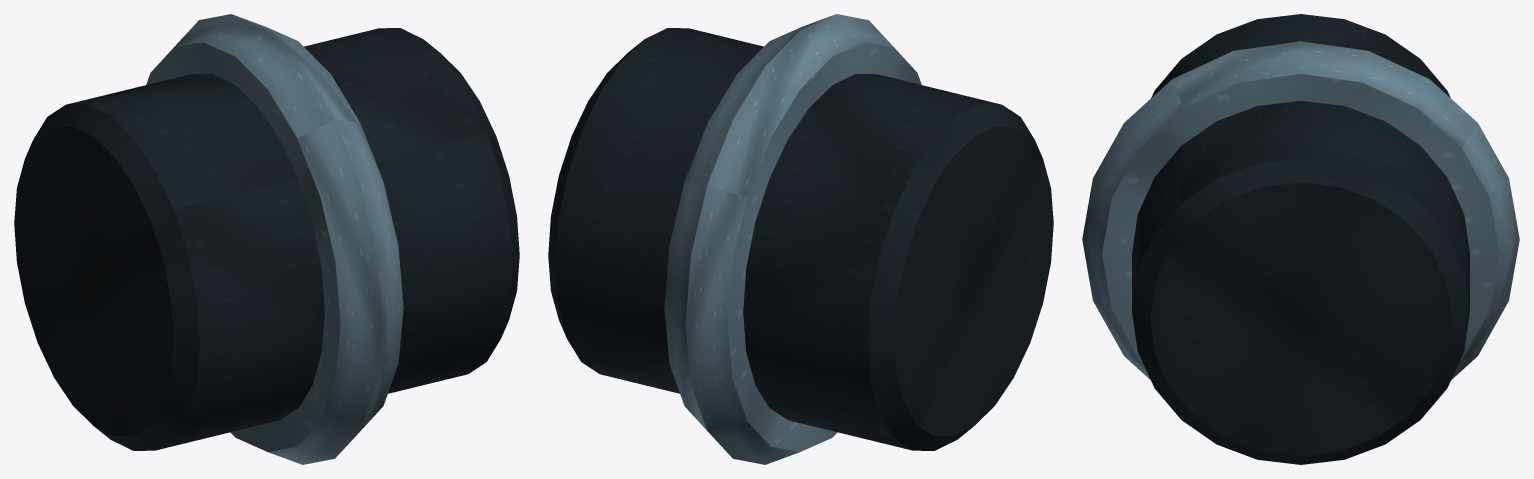
File: Repair_Joint_V2.fbx
The picture shows the model from 3 angles, left to right: view 1: azimuth 30°, elevation 25°; view 2: azimuth 150°, elevation 25°; view 3: azimuth 270°, elevation 25°; orthographic projection. The views are drawn at different scales.
Visible parts, largest first — view 1: Repair_Joint_V2; view 2: Repair_Joint_V2; view 3: Repair_Joint_V2.
Part boxes in pixels (box(x1,y1,x2,y2)): Repair_Joint_V2: box(14, 14, 519, 464); Repair_Joint_V2: box(548, 14, 1053, 464); Repair_Joint_V2: box(1082, 14, 1519, 464).
Bounding box in the file's own units: 0.38 × 0.44 × 0.44.
